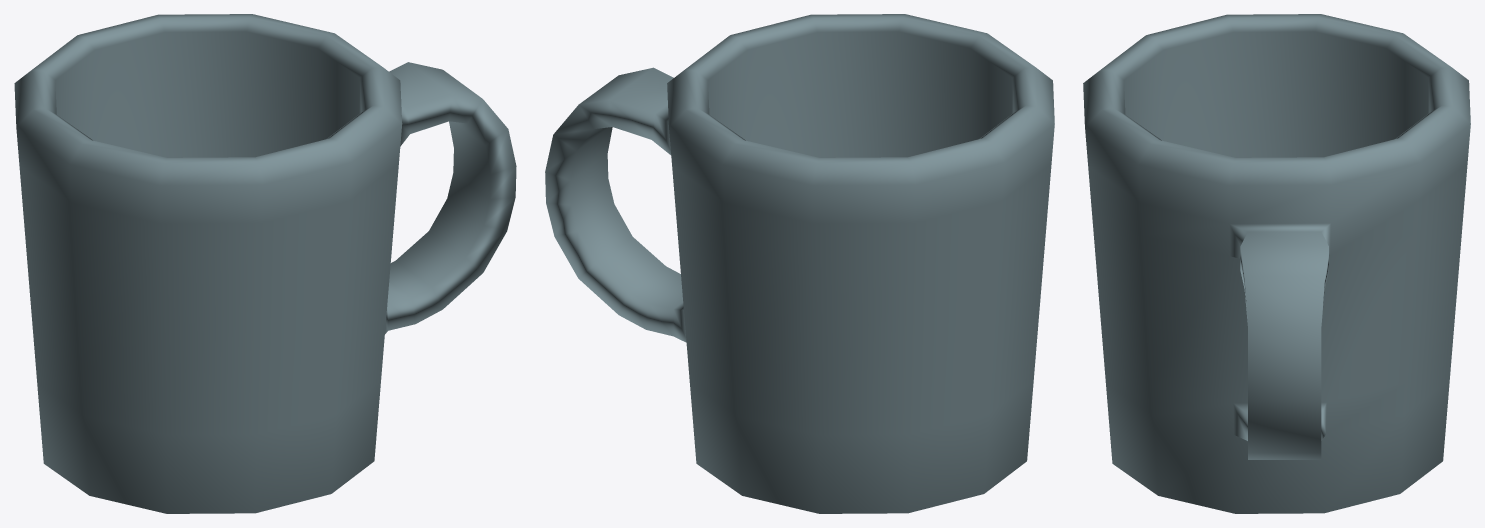
Rendered from Mug.fbx.
The picture shows the model from 3 angles, left to right: view 1: azimuth 30°, elevation 25°; view 2: azimuth 150°, elevation 25°; view 3: azimuth 270°, elevation 25°; orthographic projection.
Visible parts, largest first — view 1: TheMug; view 2: TheMug; view 3: TheMug.
Part boxes in pixels (box(x1,y1,x2,y2)): TheMug: box(14, 14, 516, 513); TheMug: box(545, 14, 1054, 513); TheMug: box(1083, 14, 1470, 513).
Size of the model in its own units: 6.21 by 4.57 by 4.52.
